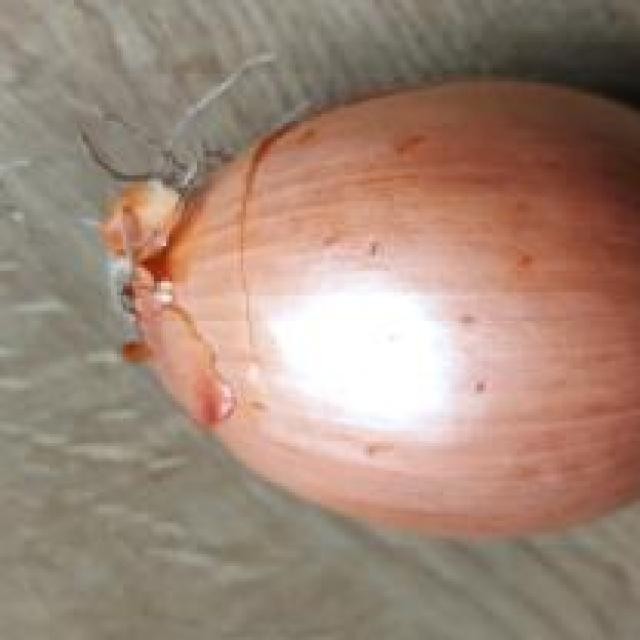onion: (104, 70, 640, 544)
